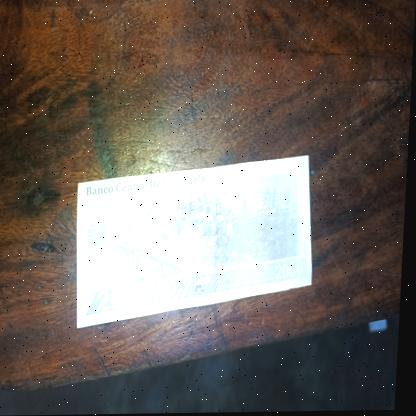two_hundred-back-vef: (73, 155, 321, 330)
